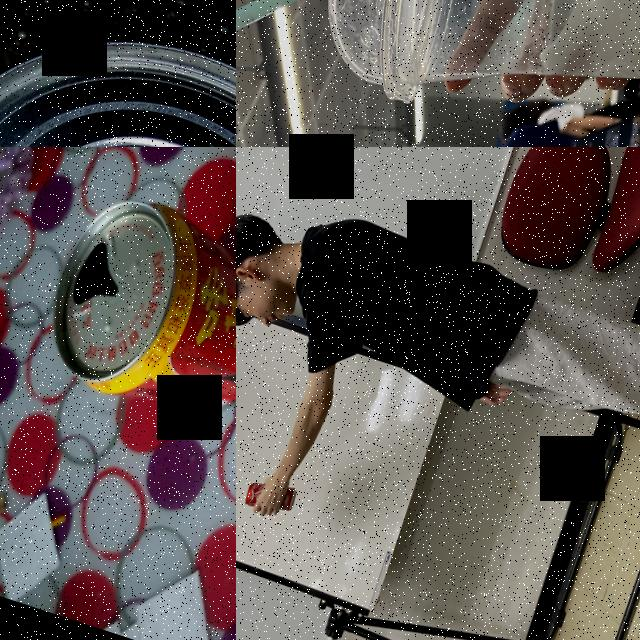can: (28, 174, 236, 437), (242, 472, 300, 520)
cup: (297, 0, 640, 147)
